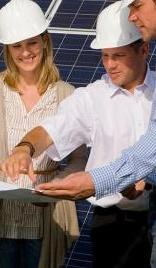hard-hat: (0, 0, 47, 45)
